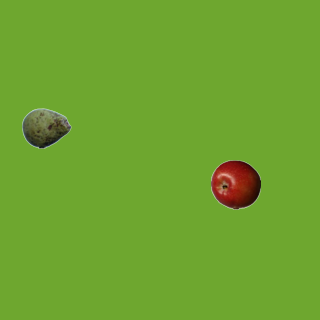Apple Braeburn: (210, 159, 260, 209)
Pear Stone: (21, 103, 71, 153)
